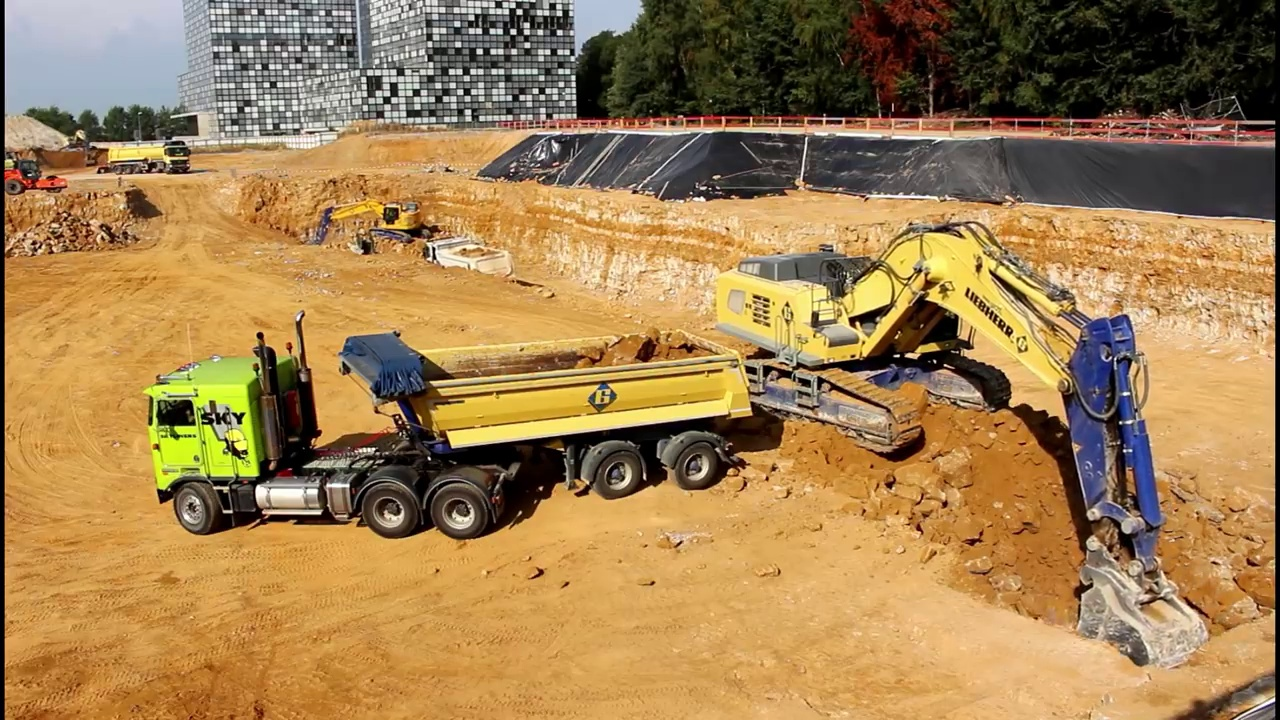compactor: (8, 155, 73, 203)
excavator: (705, 216, 1215, 675), (302, 192, 446, 264), (57, 121, 105, 169)
truck: (136, 309, 757, 547), (423, 233, 516, 302), (98, 133, 197, 179)
